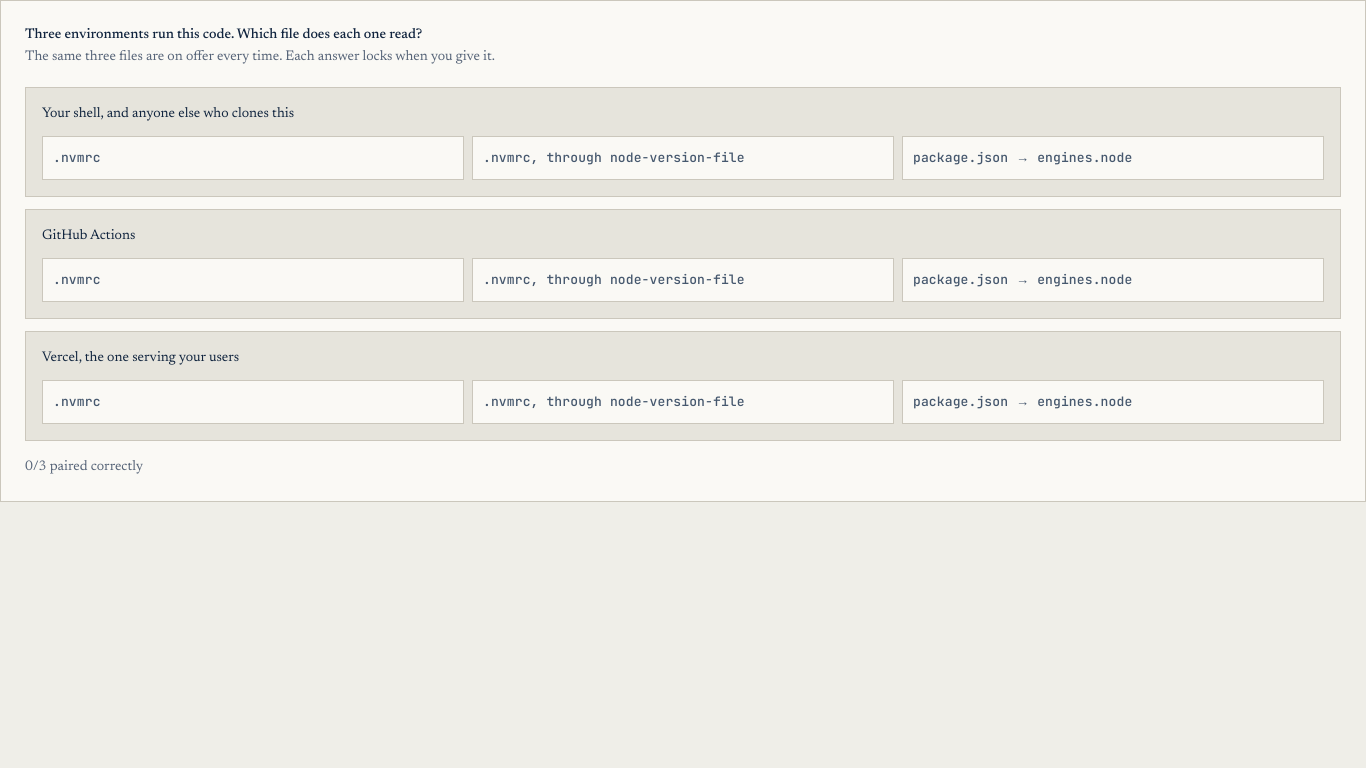
it: scores the host paired with .nvmrc as a mis-pairing and gives that target’s own reason, since that is the defect TD-28 was opened for
Click the radio button labelled ".nvmrc" below "Vercel, the one serving your users". click: click(77, 402)
box: [42, 380, 464, 424]
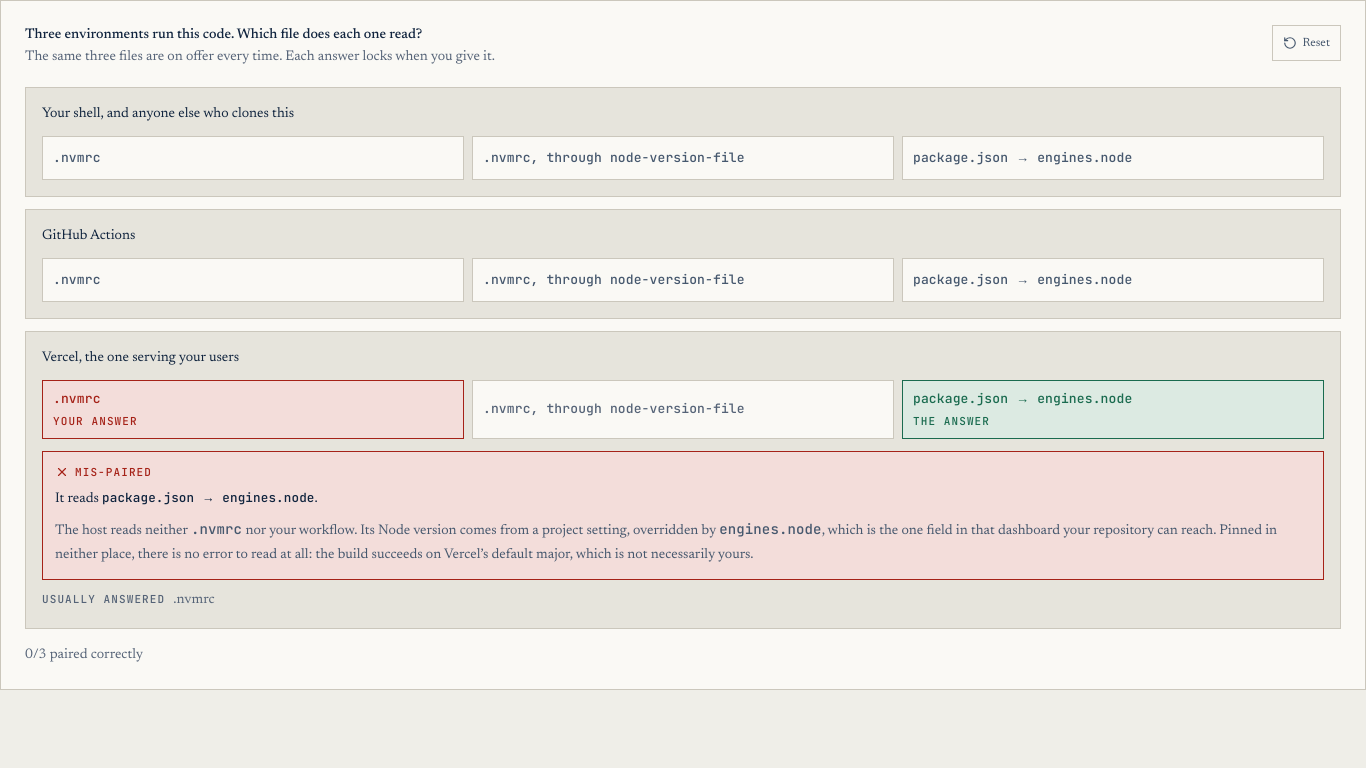
Expected: the text "Mis-paired" is shown, [55, 464, 152, 479]
Expected: the radio button labelled "package.json → engines.node" shows "The answer", [902, 380, 1324, 438]
